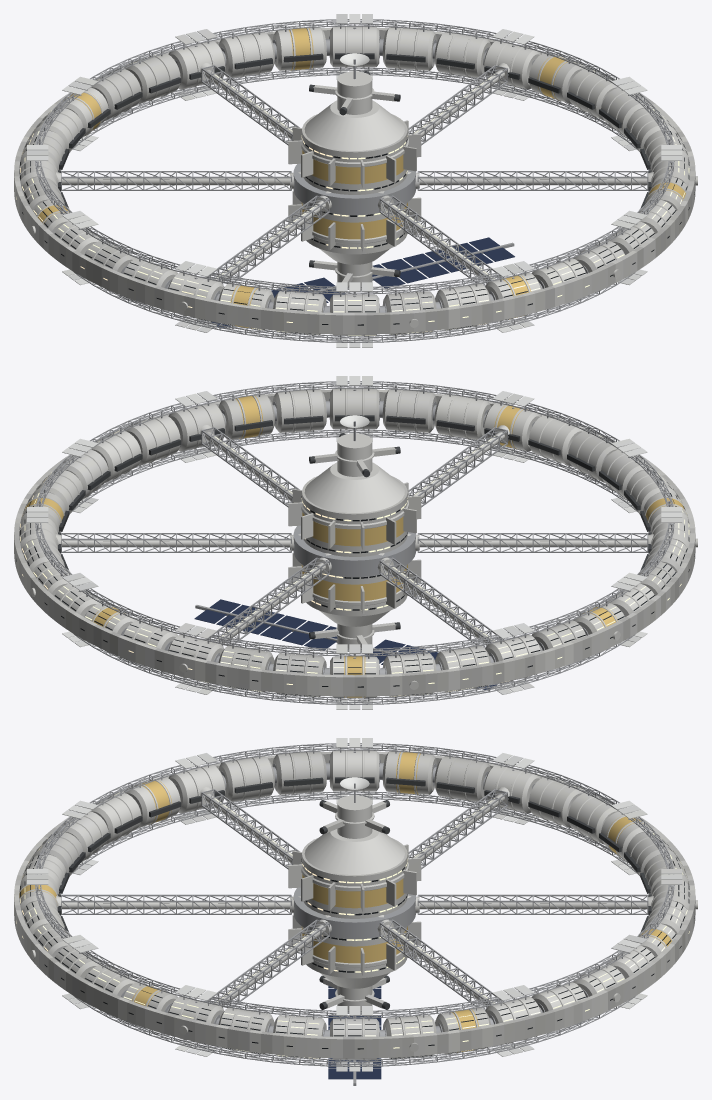
The model's file is station.glb.
3 renders of one model, top to bottom at view 1: azimuth 30°, elevation 25°; view 2: azimuth 150°, elevation 25°; view 3: azimuth 270°, elevation 25°, orthographic.
Visible parts, largest first — view 1: station_hull, station_metal, station_radiator, station_foil, station_dark, station_solar, station_glass, station_window; view 2: station_hull, station_metal, station_radiator, station_foil, station_dark, station_solar, station_glass, station_window; view 3: station_hull, station_metal, station_radiator, station_foil, station_dark, station_glass, station_window, station_solar.
Boxes of the visible parts, x1,y1,x2,y2 form: station_hull: (14,26,697,336); station_metal: (35,19,674,342); station_radiator: (27,14,682,347); station_foil: (37,28,685,328); station_dark: (58,53,651,277); station_solar: (211,237,514,327); station_glass: (20,54,694,334); station_window: (16,55,689,335); station_hull: (14,388,697,698); station_metal: (35,381,674,704); station_radiator: (27,376,682,709); station_foil: (24,396,684,697); station_dark: (58,415,651,639); station_solar: (194,599,496,689); station_glass: (16,416,694,697); station_window: (20,417,689,696); station_hull: (14,750,697,1060); station_metal: (35,743,674,1085); station_radiator: (27,738,682,1071); station_foil: (19,752,671,1052); station_dark: (57,777,651,1009); station_glass: (20,750,694,1058); station_window: (16,786,689,1058); station_solar: (328,986,381,1079).
Size of the model in its own units: 1935 by 760 by 1941.
